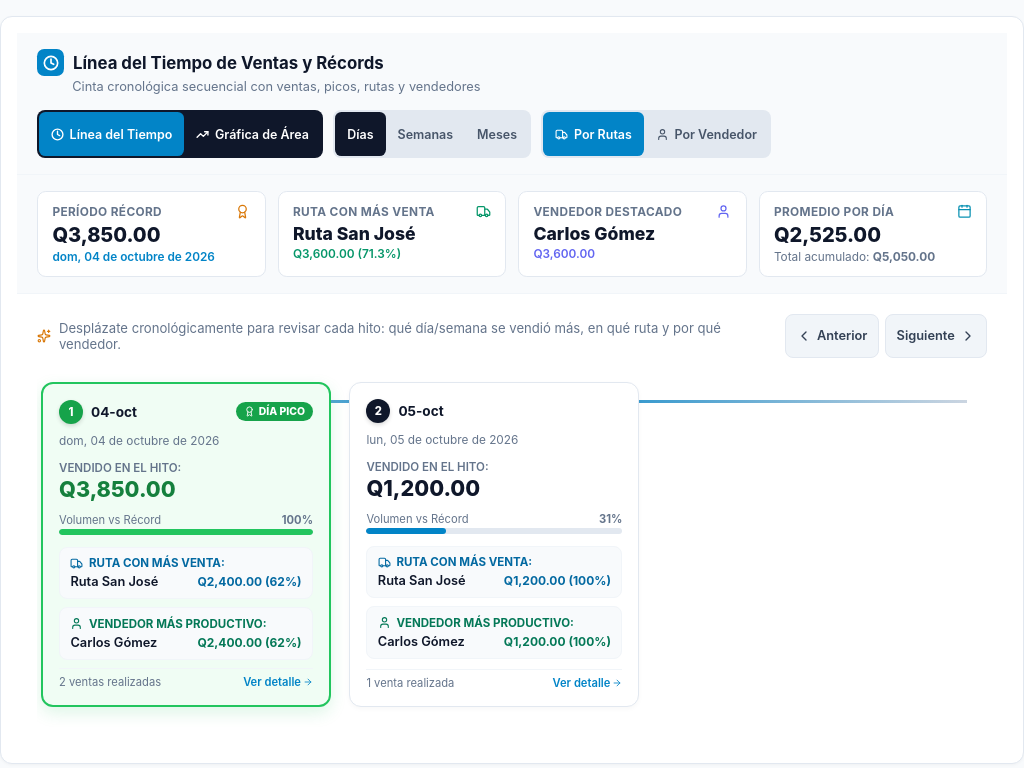
Test case: StackedSalesChart - Línea del Tiempo › permite alternar entre Línea del Tiempo y Gráfica de Área
What coordinates should you click on to do the following:
click the button "Gráfica de Área"
I would click on:
 (253, 134)
Its box is [184,112,321,156].
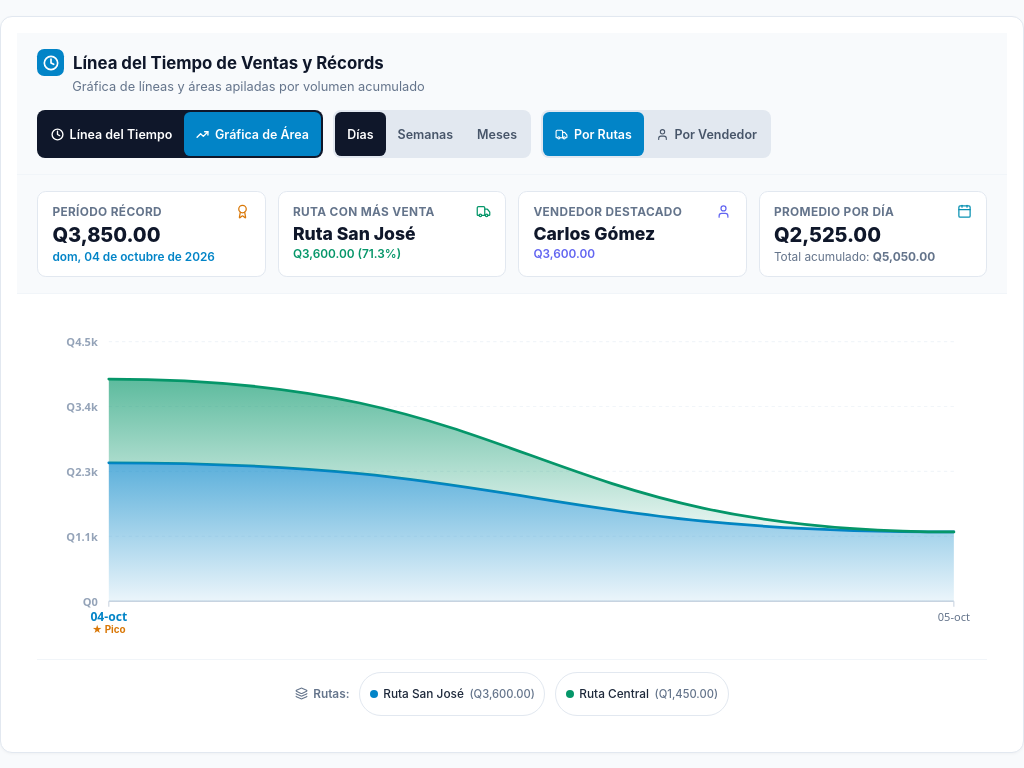
Result: the text "Gráfica de líneas y áreas apiladas por volumen acumulado" is shown at [72,79,425,94]
Regresar a Línea del Tiempo
What coordinates should you click on to do the following:
click the button "Línea del Tiempo"
I would click on:
 (112, 134)
Its box is [39,112,184,156].
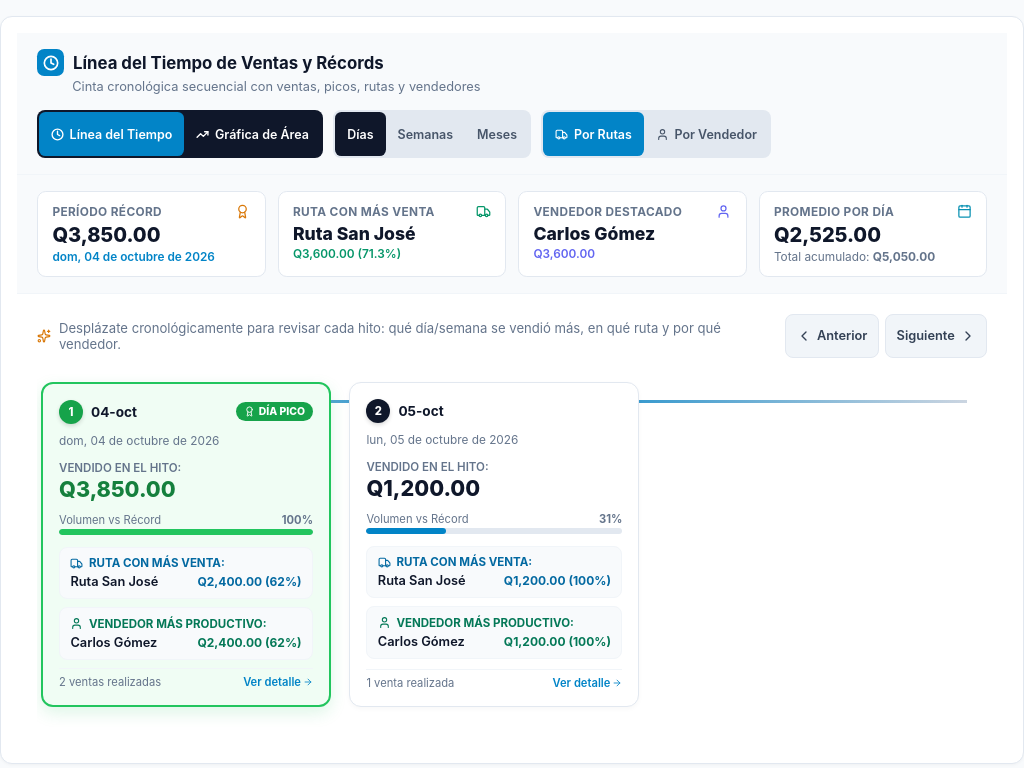
Result: the text "Cinta cronológica secuencial" is shown at [72,79,480,94]
